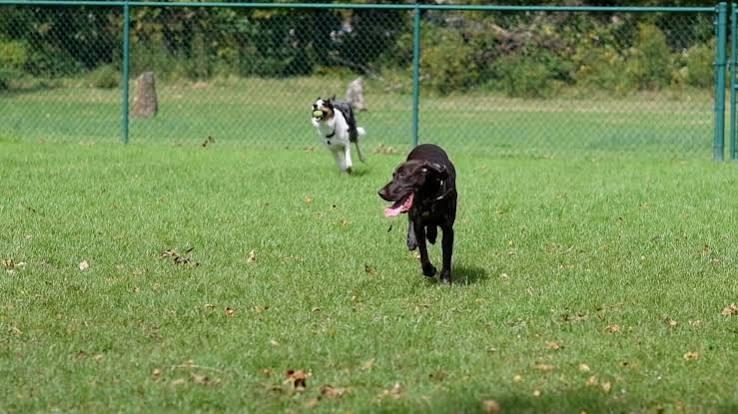adult_dog: (378, 143, 459, 285), (310, 95, 369, 175)
